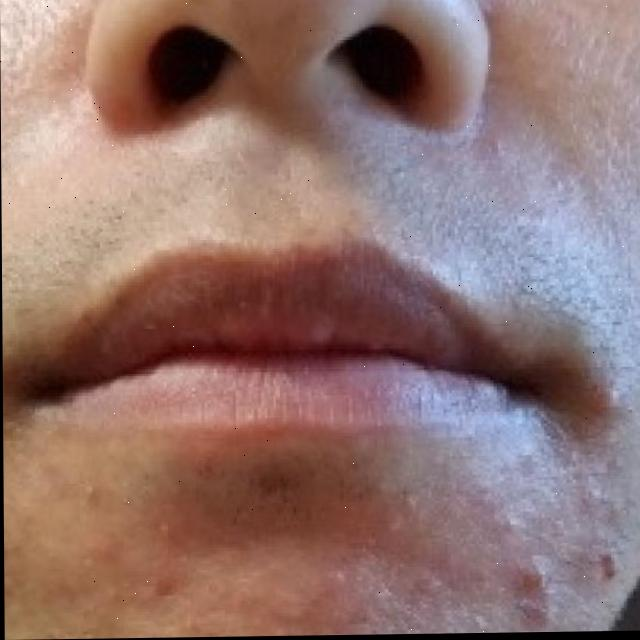Acne: (76, 524, 355, 639), (481, 545, 579, 629)
